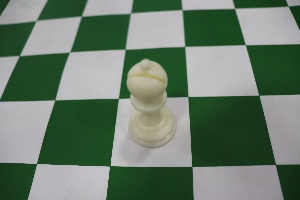white_bishop: (116, 46, 180, 151)
